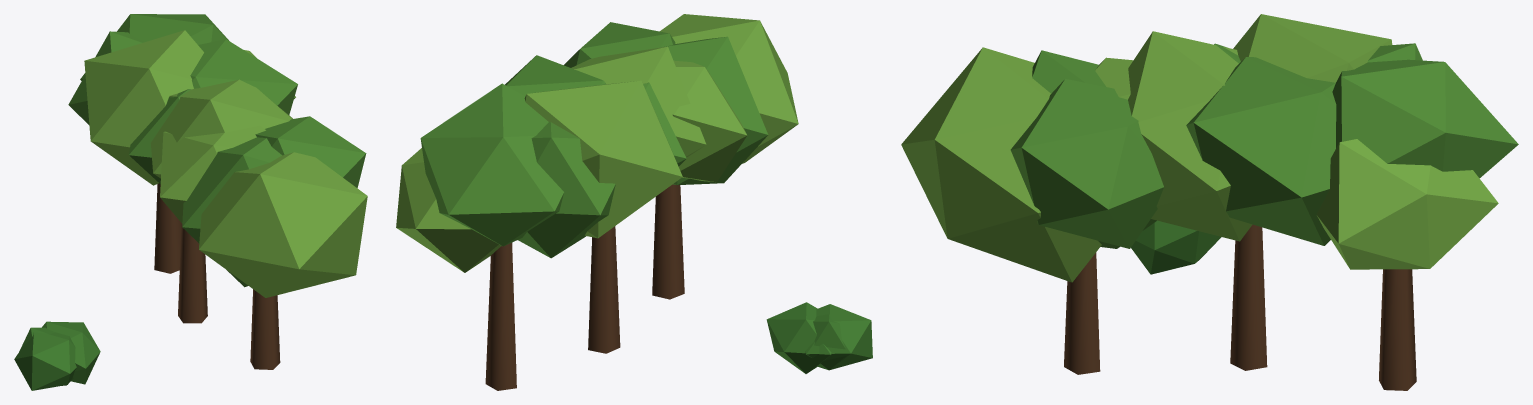
Rendered from sawyer_temperate_grove_d.glb.
The picture shows the model from 3 angles, left to right: view 1: azimuth 30°, elevation 25°; view 2: azimuth 150°, elevation 25°; view 3: azimuth 270°, elevation 25°; orthographic projection. The views are drawn at different scales.
Visible parts, largest first — view 1: oak_2_crown3, oak_1_crown1, oak_1_crown3, oak_2_crown1, oak_1_crown2, oak_2_crown2, oak_2_crown0, bush_3_leaves2, oak_1_trunk, oak_0_crown0, oak_2_trunk, oak_0_trunk (+3 smaller); view 2: oak_0_crown0, oak_1_crown1, oak_2_crown3, oak_0_crown2, oak_0_crown1, oak_2_crown1, oak_1_crown3, oak_2_crown0, oak_0_trunk, oak_1_trunk, oak_2_trunk, bush_3_leaves0 (+5 smaller); view 3: oak_2_crown3, oak_1_crown2, oak_2_crown2, oak_0_crown1, oak_0_crown0, oak_1_crown3, oak_1_crown1, oak_1_trunk, oak_0_trunk, oak_2_trunk, bush_3_leaves0, oak_2_crown0 (+2 smaller).
Part boxes in pixels (x1=…): oak_2_crown3: x1=199, y1=152, x2=367, y2=297; oak_1_crown1: x1=84, y1=30, x2=203, y2=185; oak_1_crown3: x1=150, y1=79, x2=292, y2=178; oak_2_crown1: x1=160, y1=125, x2=265, y2=243; oak_1_crown2: x1=190, y1=39, x2=297, y2=114; oak_2_crown2: x1=255, y1=116, x2=366, y2=187; oak_2_crown0: x1=182, y1=137, x2=281, y2=287; bush_3_leaves2: x1=14, y1=332, x2=76, y2=390; oak_1_trunk: x1=178, y1=223, x2=207, y2=323; oak_0_crown0: x1=80, y1=14, x2=228, y2=80; oak_2_trunk: x1=250, y1=289, x2=280, y2=369; oak_0_trunk: x1=154, y1=183, x2=181, y2=273; oak_0_crown0: x1=420, y1=83, x2=563, y2=246; oak_1_crown1: x1=524, y1=80, x2=682, y2=238; oak_2_crown3: x1=659, y1=14, x2=798, y2=163; oak_0_crown2: x1=518, y1=122, x2=615, y2=258; oak_0_crown1: x1=396, y1=148, x2=501, y2=272; oak_2_crown1: x1=672, y1=60, x2=747, y2=182; oak_1_crown3: x1=571, y1=46, x2=706, y2=157; oak_2_crown0: x1=664, y1=36, x2=768, y2=185; oak_0_trunk: x1=485, y1=242, x2=516, y2=390; oak_1_trunk: x1=588, y1=226, x2=620, y2=353; oak_2_trunk: x1=652, y1=184, x2=684, y2=299; bush_3_leaves0: x1=766, y1=302, x2=831, y2=373; oak_2_crown3: x1=901, y1=47, x2=1101, y2=282; oak_1_crown2: x1=1186, y1=57, x2=1336, y2=245; oak_2_crown2: x1=1010, y1=79, x2=1163, y2=248; oak_0_crown1: x1=1316, y1=139, x2=1498, y2=269; oak_0_crown0: x1=1332, y1=59, x2=1518, y2=178; oak_1_crown3: x1=1128, y1=31, x2=1252, y2=241; oak_1_crown1: x1=1233, y1=14, x2=1392, y2=82; oak_1_trunk: x1=1230, y1=224, x2=1267, y2=370; oak_0_trunk: x1=1379, y1=269, x2=1416, y2=390; oak_2_trunk: x1=1064, y1=252, x2=1100, y2=374; bush_3_leaves0: x1=1131, y1=220, x2=1221, y2=274; oak_2_crown0: x1=1032, y1=50, x2=1156, y2=248.
Bounding box in the file's own units: 4.01 × 2.89 × 4.94.
